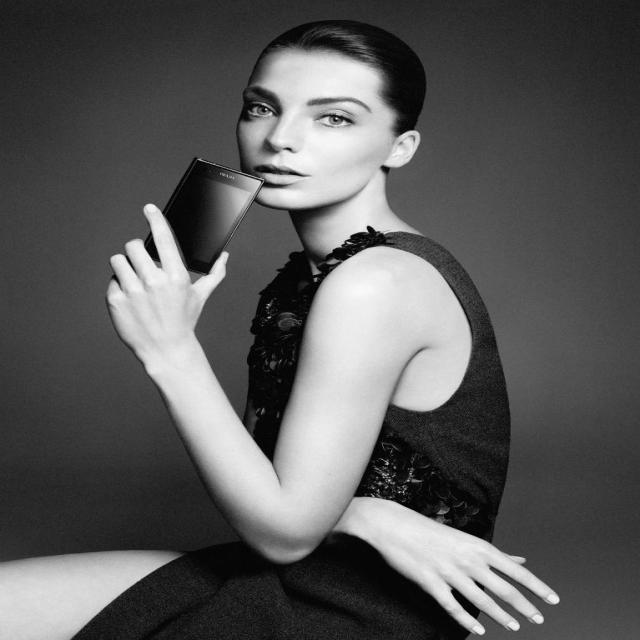Mobile-phone: (146, 158, 268, 273)
